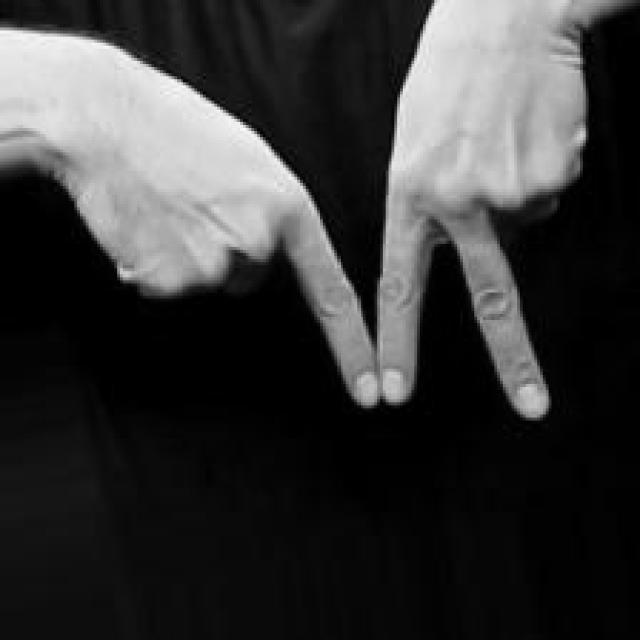N: (62, 33, 589, 431)
